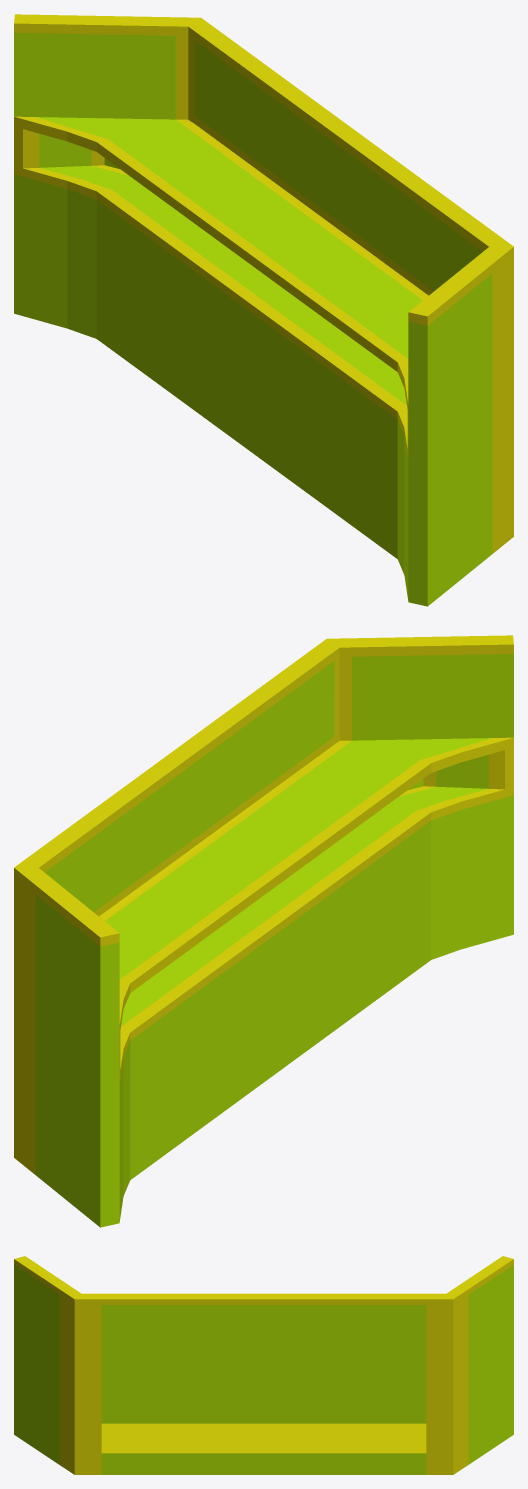
File: Hall_Desk_V1.4.fbx
3 views of the same model, one above another, from view 1: azimuth 30°, elevation 25°; view 2: azimuth 150°, elevation 25°; view 3: azimuth 270°, elevation 25° (orthographic). The views are drawn at different scales.
Visible parts, largest first — view 1: pCube2; view 2: pCube2; view 3: pCube2.
Boxes of the visible parts, bbox=[...] form: pCube2: bbox=[14, 14, 513, 606]; pCube2: bbox=[14, 635, 513, 1227]; pCube2: bbox=[14, 1256, 513, 1474].
Size of the model in its own units: 0.778 by 1.47 by 3.8.
